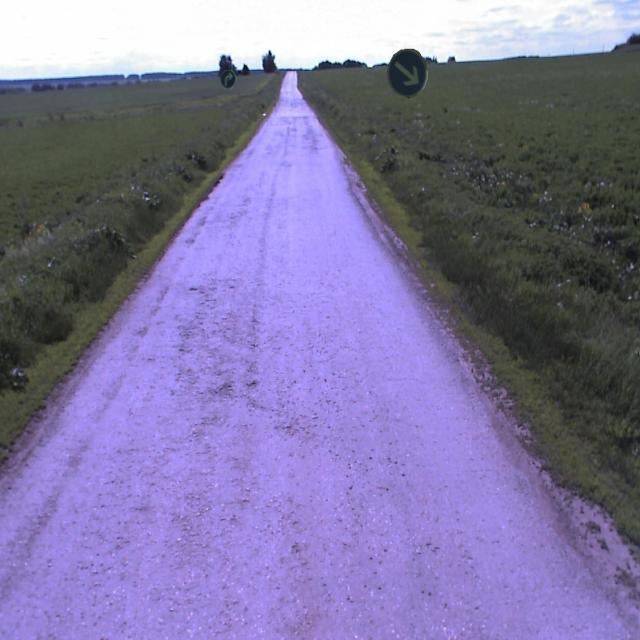road: (0, 92, 632, 639)
